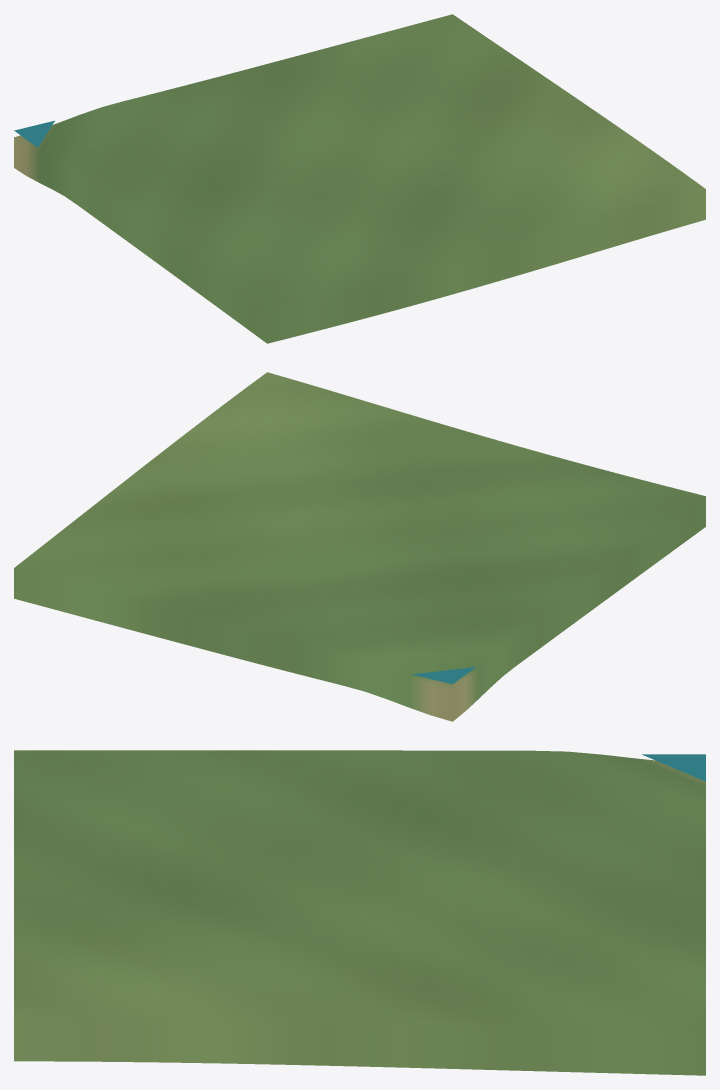
The picture shows the model from 3 angles, top to bottom: view 1: azimuth 30°, elevation 25°; view 2: azimuth 150°, elevation 25°; view 3: azimuth 270°, elevation 25°; orthographic projection. The views are drawn at different scales.
Visible parts, largest first — view 1: terrain; view 2: terrain; view 3: terrain, scenery.
Part boxes in pixels (bbox=[...]): terrain: bbox=[14, 14, 705, 343]; terrain: bbox=[14, 372, 705, 721]; terrain: bbox=[14, 750, 705, 1075]; scenery: bbox=[641, 754, 705, 781].
Bounding box in the file's own units: 30 × 3.74 × 30.
